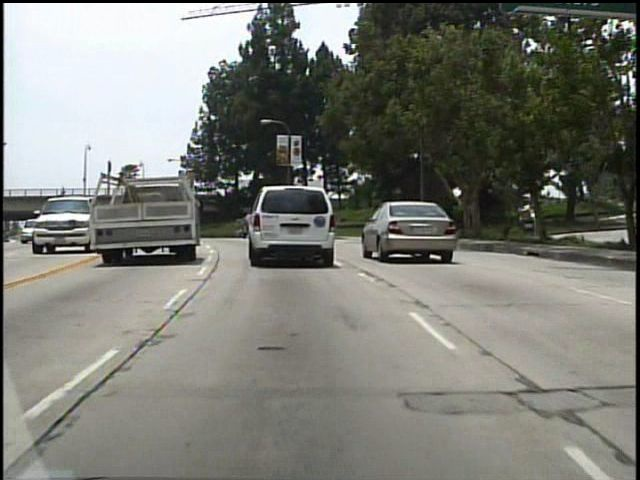person: (57, 182, 68, 202)
